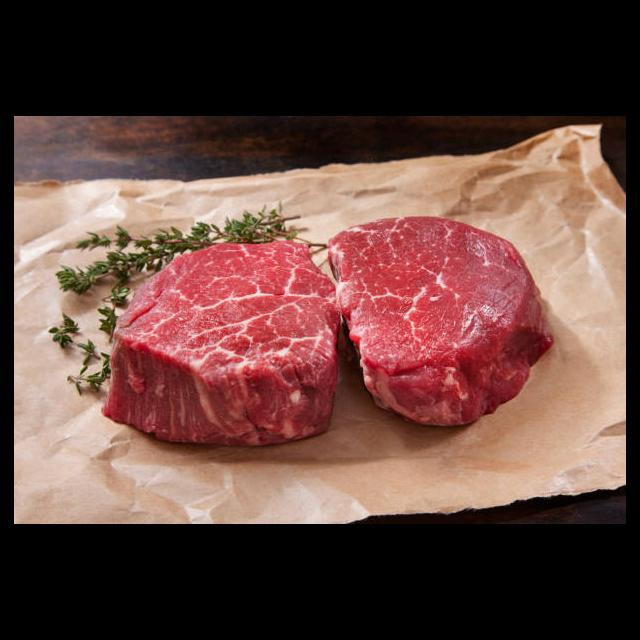beef: (99, 240, 343, 449), (326, 215, 553, 428)
